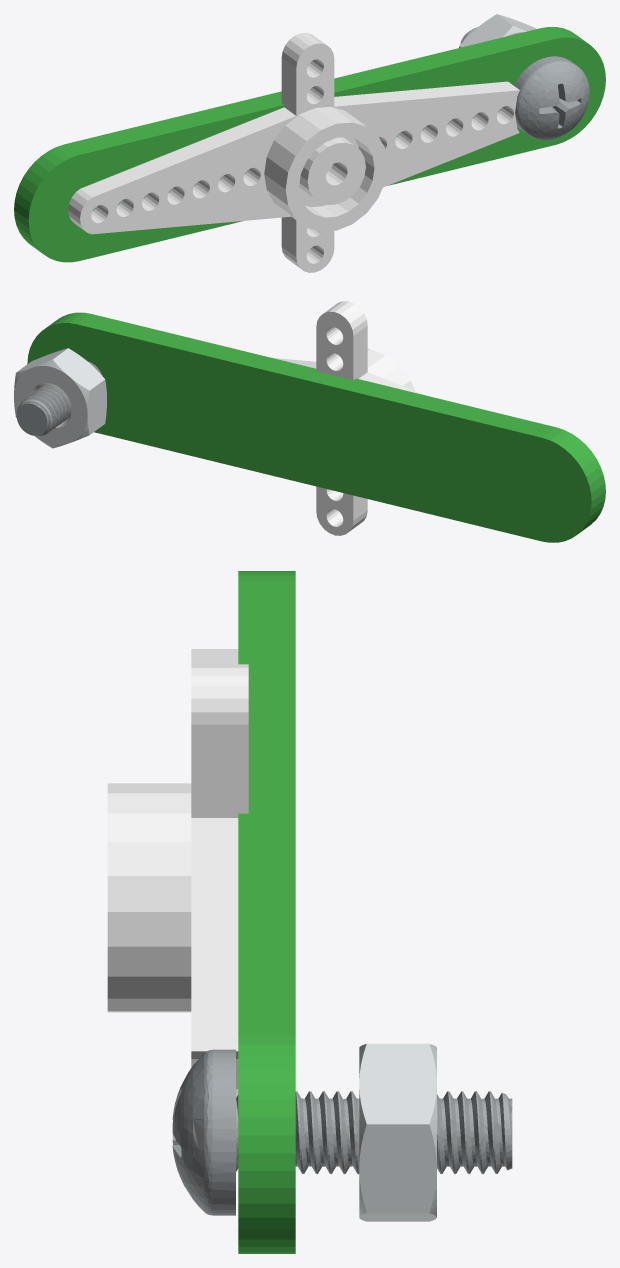
The model's file is tinker.obj.
3 renders of one model, top to bottom at view 1: azimuth 30°, elevation 25°; view 2: azimuth 150°, elevation 25°; view 3: azimuth 270°, elevation 25°, orthographic. The views are drawn at different scales.
Parts seen in each view (by area): view 1: group_0_16448250, group_0_4634441, group_0_10988977, group_0_14541540; view 2: group_0_4634441, group_0_16448250, group_0_14541540, group_0_10988977; view 3: group_0_16448250, group_0_4634441, group_0_10988977, group_0_14541540.
Boxes of the visible parts, left/top/right/bottom form: group_0_16448250: left=68, top=32, right=519, bottom=272; group_0_4634441: left=14, top=27, right=605, bottom=262; group_0_10988977: left=460, top=27, right=589, bottom=139; group_0_14541540: left=459, top=14, right=535, bottom=47; group_0_4634441: left=27, top=312, right=605, bottom=542; group_0_16448250: left=273, top=301, right=425, bottom=535; group_0_14541540: left=14, top=348, right=106, bottom=448; group_0_10988977: left=16, top=361, right=102, bottom=435; group_0_16448250: left=107, top=649, right=248, bottom=1097; group_0_4634441: left=238, top=571, right=295, bottom=1253; group_0_10988977: left=172, top=1049, right=512, bottom=1215; group_0_14541540: left=359, top=1043, right=436, bottom=1221.
Size of the model in its own units: 45.53 by 17.22 by 14.14.
